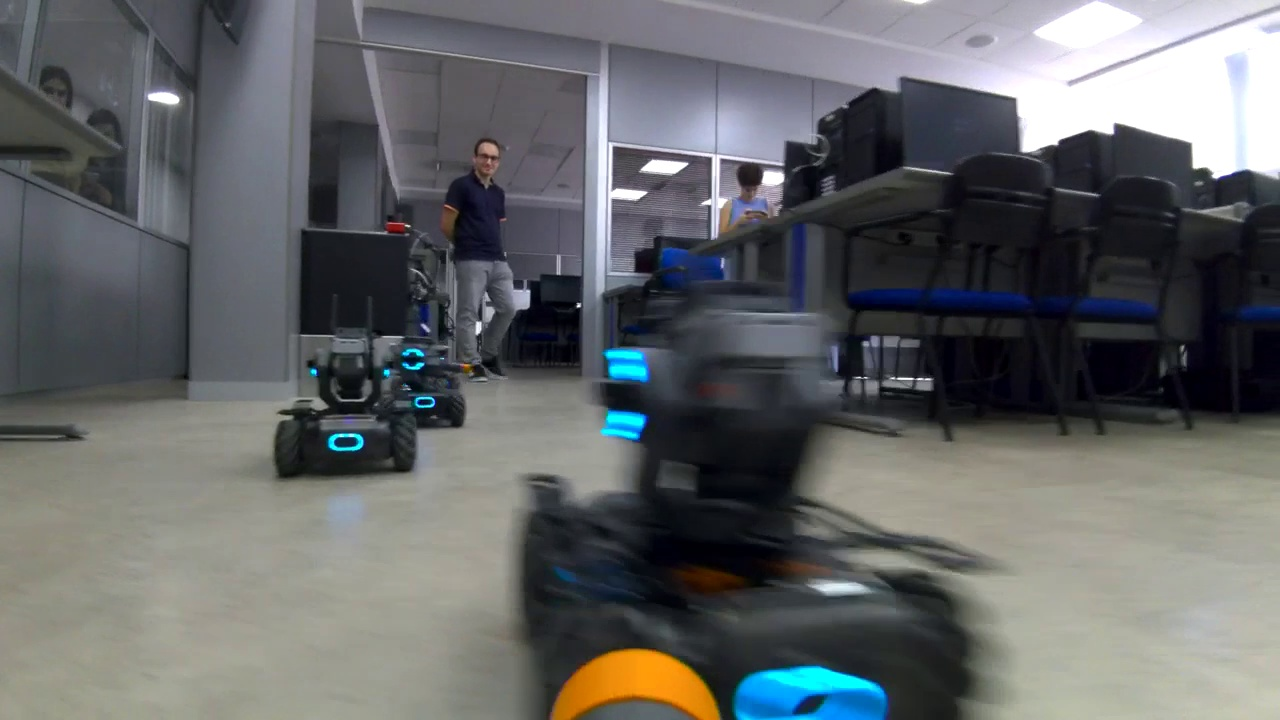robot: (508, 263, 998, 720), (262, 292, 424, 472), (377, 336, 474, 431)
